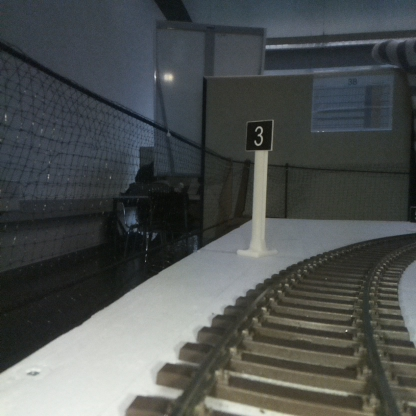black-info-3: (246, 120, 271, 254)
